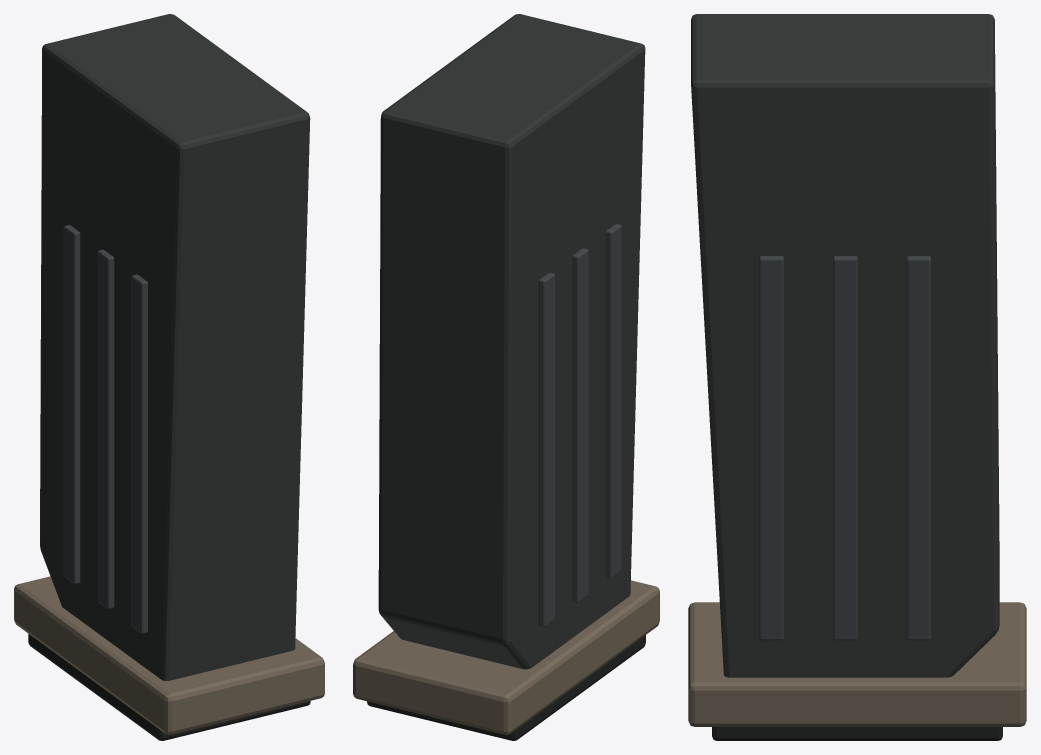
Rendered from extmag.glb.
3 views of the same model, side by side, from view 1: azimuth 30°, elevation 25°; view 2: azimuth 150°, elevation 25°; view 3: azimuth 270°, elevation 25° (orthographic). The views are drawn at different scales.
Visible parts, largest first — view 1: extmag_Extended_shell, extmag_metal, extmag_Bronze_floorplate, extmag_Rubber_heel; view 2: extmag_Extended_shell, extmag_Bronze_floorplate, extmag_metal, extmag_Rubber_heel; view 3: extmag_Extended_shell, extmag_metal, extmag_Bronze_floorplate, extmag_Rubber_heel.
Part boxes in pixels (left/top/right/bottom): extmag_Extended_shell: left=40, top=14, right=310, bottom=680; extmag_metal: left=63, top=225, right=147, bottom=633; extmag_Bronze_floorplate: left=14, top=576, right=324, bottom=734; extmag_Rubber_heel: left=28, top=634, right=310, bottom=740; extmag_Extended_shell: left=378, top=14, right=645, bottom=669; extmag_Bronze_floorplate: left=353, top=580, right=659, bottom=734; extmag_metal: left=538, top=223, right=621, bottom=626; extmag_Rubber_heel: left=367, top=635, right=645, bottom=740; extmag_Extended_shell: left=691, top=14, right=999, bottom=677; extmag_metal: left=759, top=256, right=930, bottom=640; extmag_Bronze_floorplate: left=688, top=602, right=1026, bottom=726; extmag_Rubber_heel: left=712, top=727, right=1002, bottom=740.
Size of the model in its own units: 0.041 by 0.1475 by 0.069.
